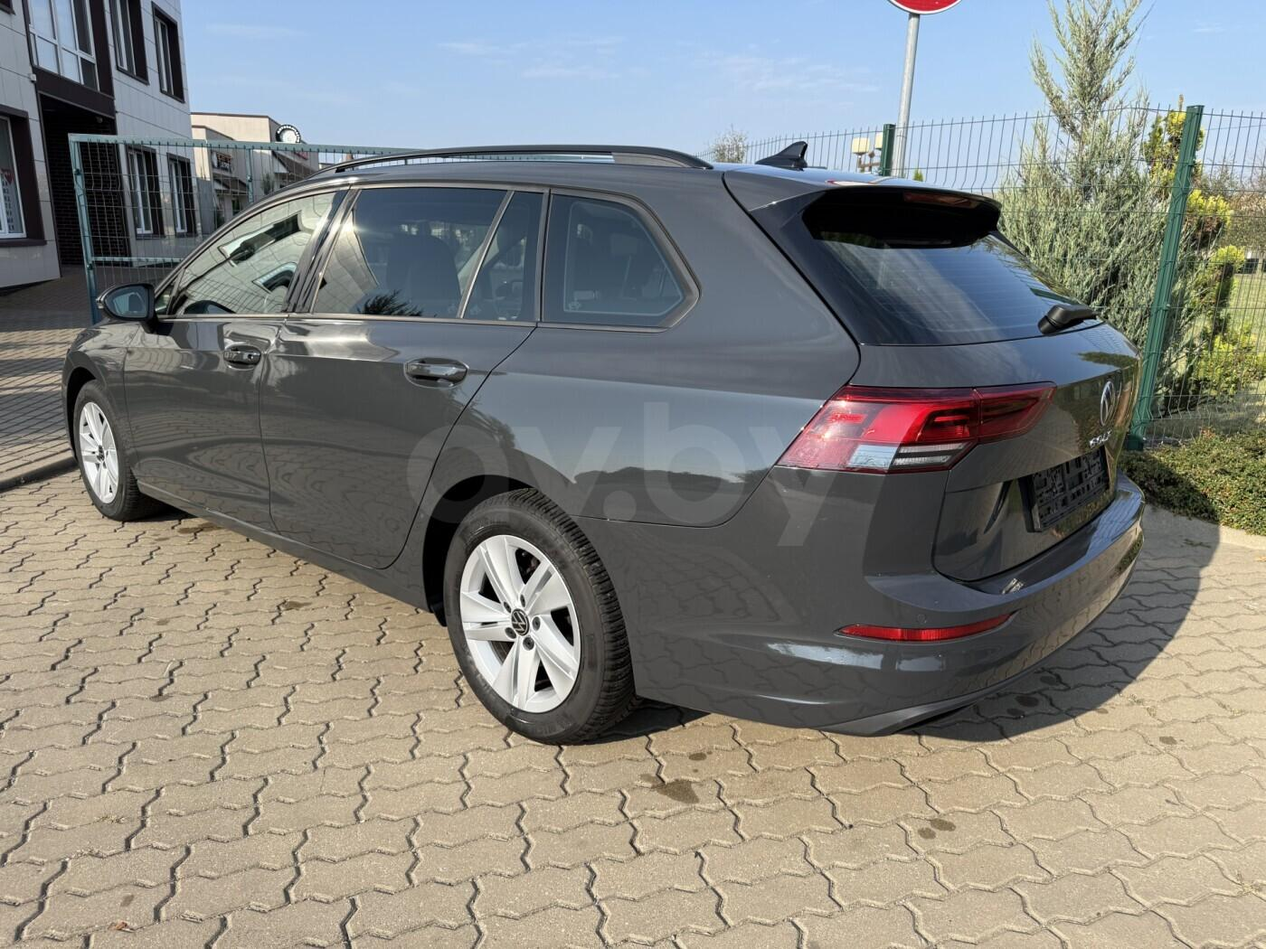Golf_2019: (57, 158, 1147, 745)
